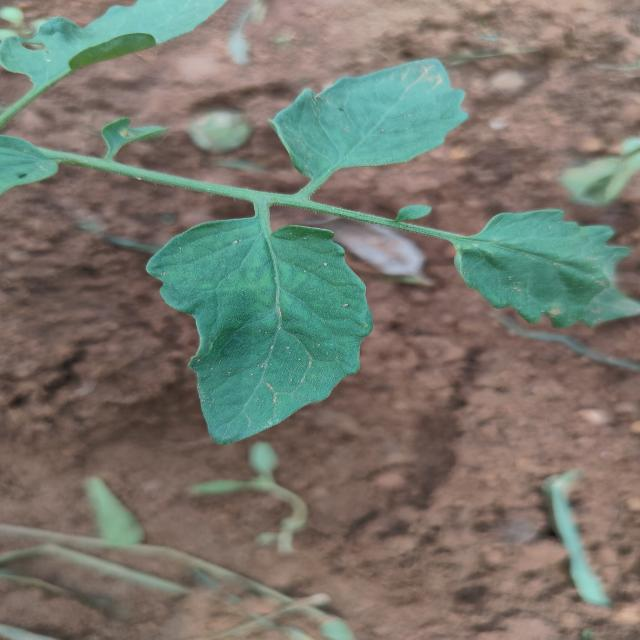tomato_healthy: (140, 215, 381, 453), (268, 53, 470, 179), (440, 212, 640, 334)
